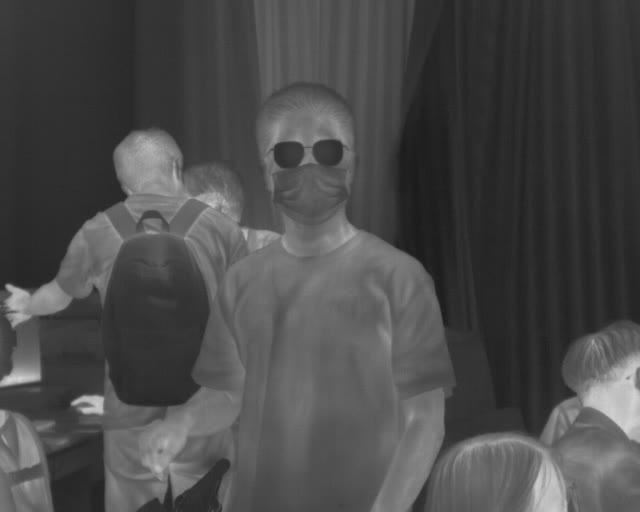face: (255, 82, 356, 227)
